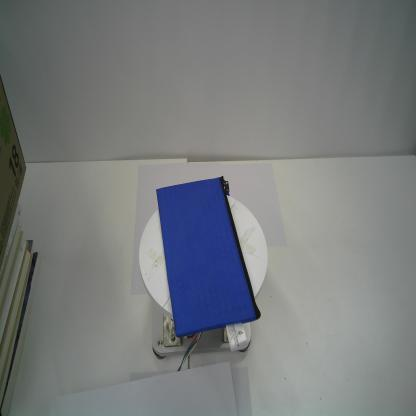Stationery: (155, 174, 263, 353)
